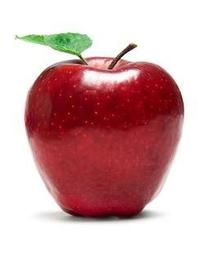apple: (22, 49, 184, 217)
